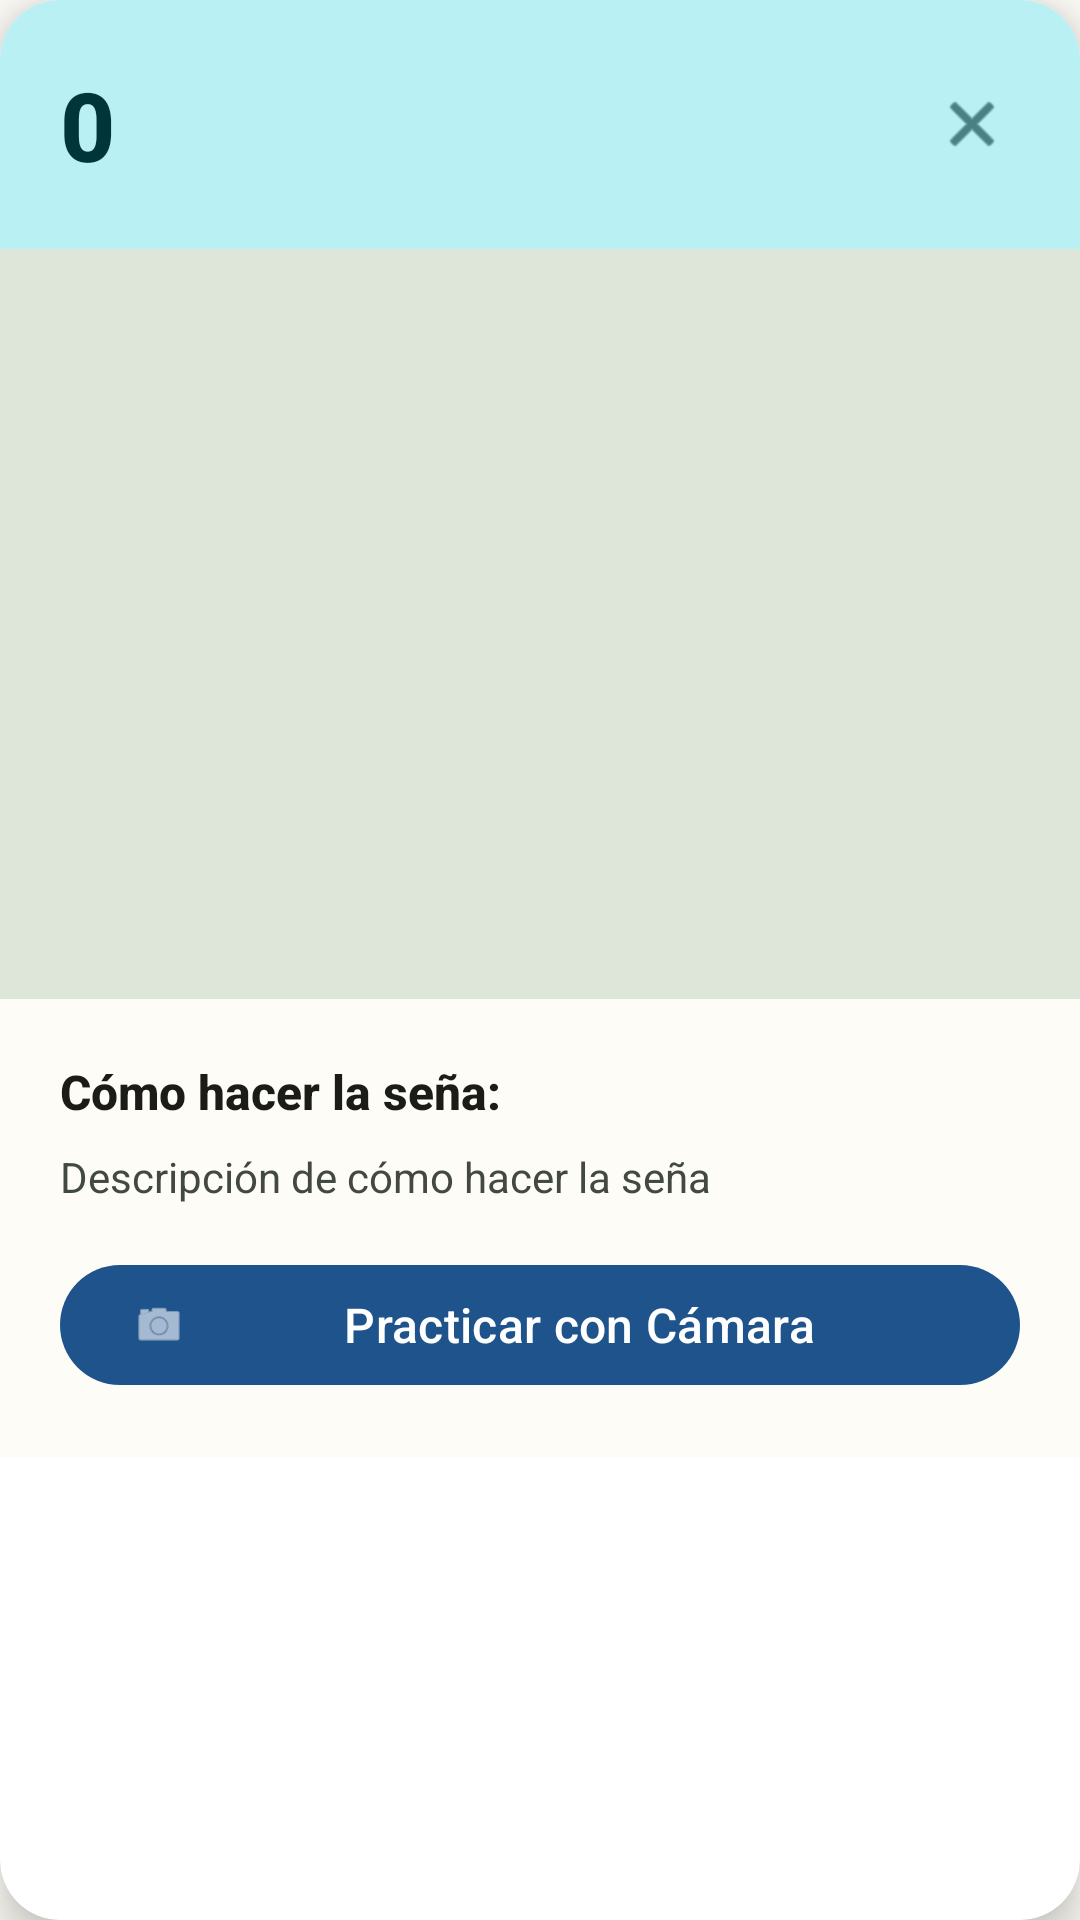

Icons on this 1080×1920 Android screen, each with its box as (x1=x1, y1=y1, x2=x2, y2=y2):
Cerrar: (x1=950, y1=102, x2=994, y2=146)
